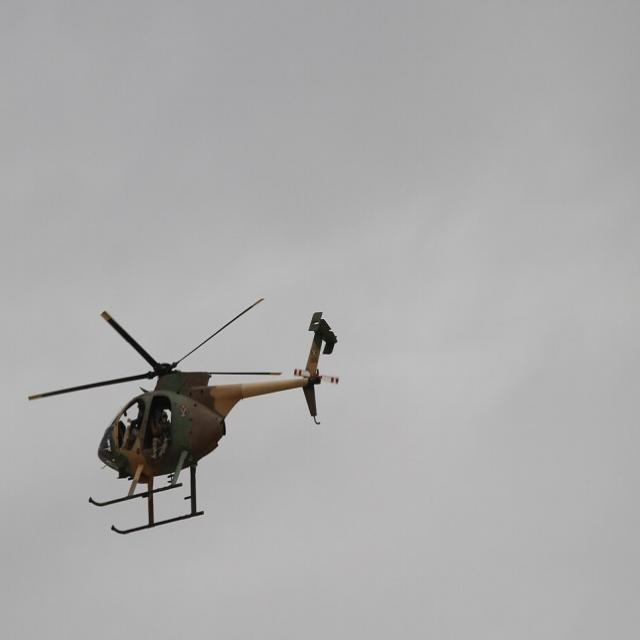helicopter: (28, 275, 352, 541)
